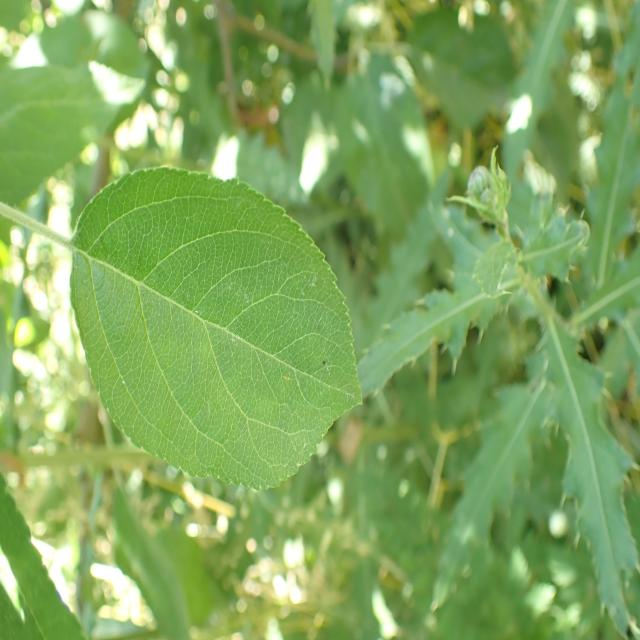healthy: (71, 165, 363, 492)
